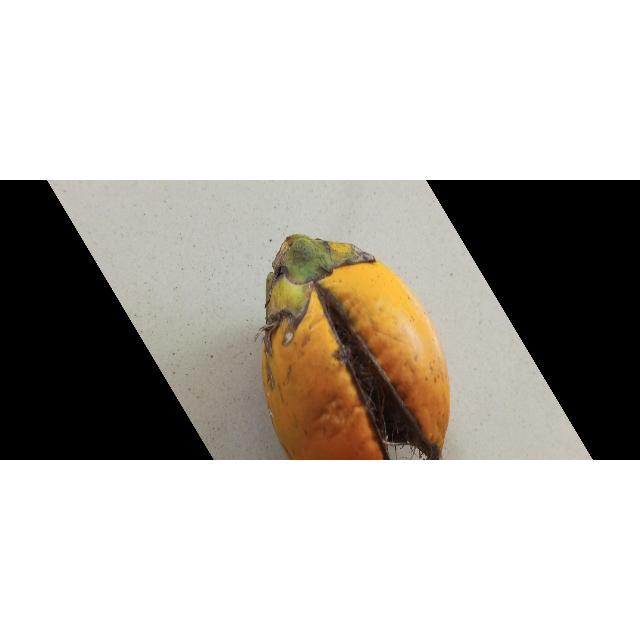damaged: (261, 235, 451, 461)
